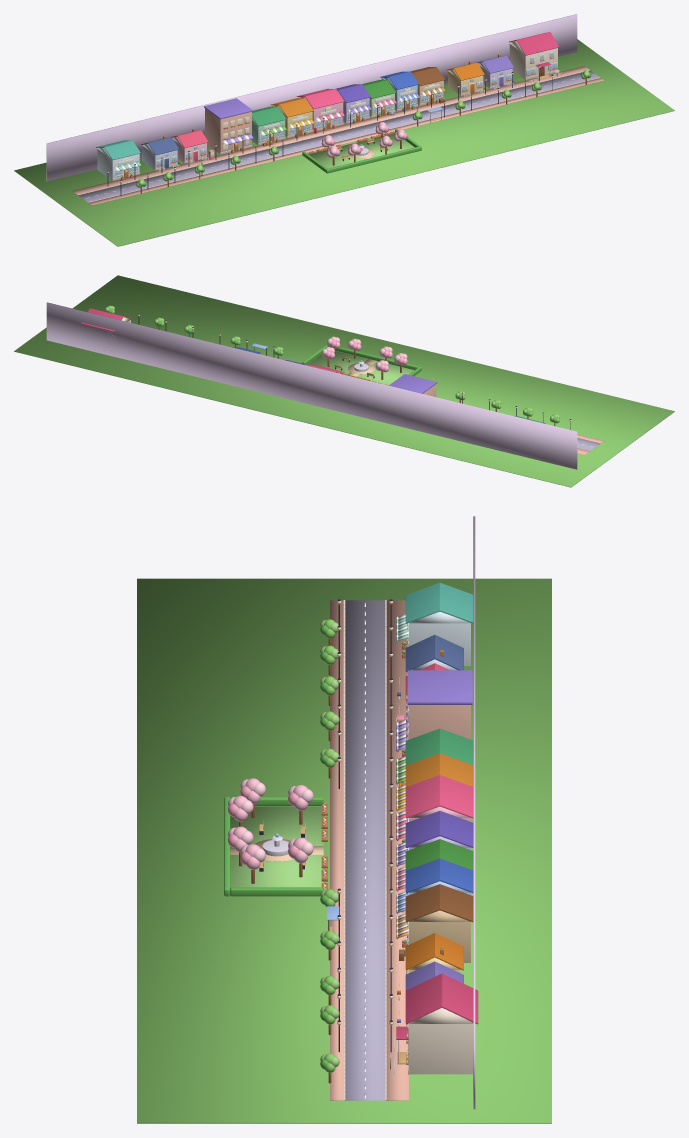
Rendered from city.glb.
3 views of the same model, one above another, from view 1: azimuth 30°, elevation 25°; view 2: azimuth 150°, elevation 25°; view 3: azimuth 270°, elevation 25° (orthographic). The views are drawn at different scales.
Parts seen in each view (by area): view 1: City_static, grp_home_mesh, grp_forsale_mesh, grp_clinic_mesh, grp_cafe_mesh, grp_market_mesh, grp_homestore_mesh, grp_boutique_mesh, grp_house_ren_mesh, grp_house_kai_mesh, grp_bookshop_mesh, grp_jeweler_mesh (+3 smaller); view 2: City_static, grp_home_mesh; view 3: City_static, grp_forsale_mesh, grp_home_mesh, grp_clinic_mesh, grp_bookshop_mesh, grp_cafe_mesh, grp_boutique_mesh, grp_market_mesh, grp_jeweler_mesh, grp_homestore_mesh, grp_house_kai_mesh, grp_house_ren_mesh (+1 smaller).
Boxes of the visible parts, x1,y1,x2,y2 form: City_static: [14, 14, 674, 246]; grp_home_mesh: [204, 98, 253, 154]; grp_forsale_mesh: [509, 32, 561, 82]; grp_clinic_mesh: [96, 140, 141, 180]; grp_cafe_mesh: [296, 88, 344, 131]; grp_market_mesh: [252, 106, 286, 146]; grp_homestore_mesh: [271, 98, 314, 138]; grp_boutique_mesh: [335, 84, 371, 123]; grp_house_ren_mesh: [141, 136, 180, 171]; grp_house_kai_mesh: [446, 61, 485, 97]; grp_bookshop_mesh: [410, 67, 445, 106]; grp_jeweler_mesh: [380, 71, 419, 111]; City_static: [14, 275, 674, 487]; grp_home_mesh: [389, 374, 437, 396]; City_static: [137, 516, 551, 1123]; grp_forsale_mesh: [390, 973, 478, 1074]; grp_home_mesh: [395, 670, 472, 756]; grp_clinic_mesh: [396, 582, 473, 665]; grp_bookshop_mesh: [396, 884, 473, 962]; grp_cafe_mesh: [396, 775, 473, 842]; grp_boutique_mesh: [396, 811, 473, 866]; grp_market_mesh: [396, 728, 473, 786]; grp_jeweler_mesh: [396, 858, 473, 913]; grp_homestore_mesh: [396, 753, 473, 810]; grp_house_kai_mesh: [397, 933, 463, 1000]; grp_house_ren_mesh: [397, 634, 463, 701].
Size of the model in its own units: 124 by 8.13 by 40.
